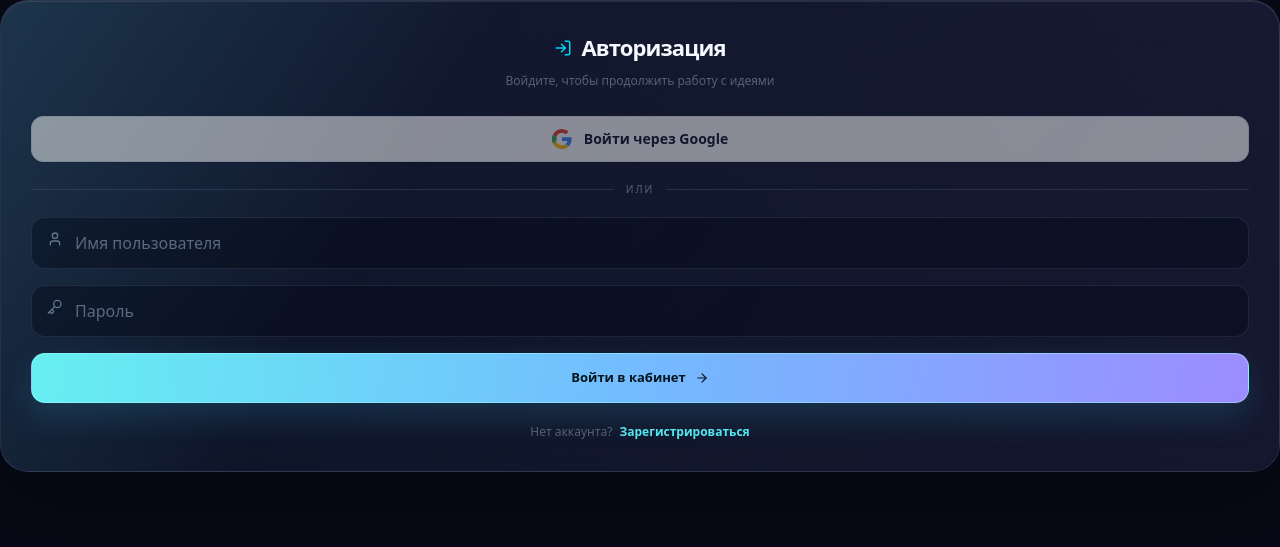
Test: Компонент AuthForm › Показывает ошибку, если бэкенд вернул статус 400
This screenshot has width=1280, height=547.
In the field with placeholder "Имя пользователя": (640, 243) [31,217,1249,269], type "wrong_user"
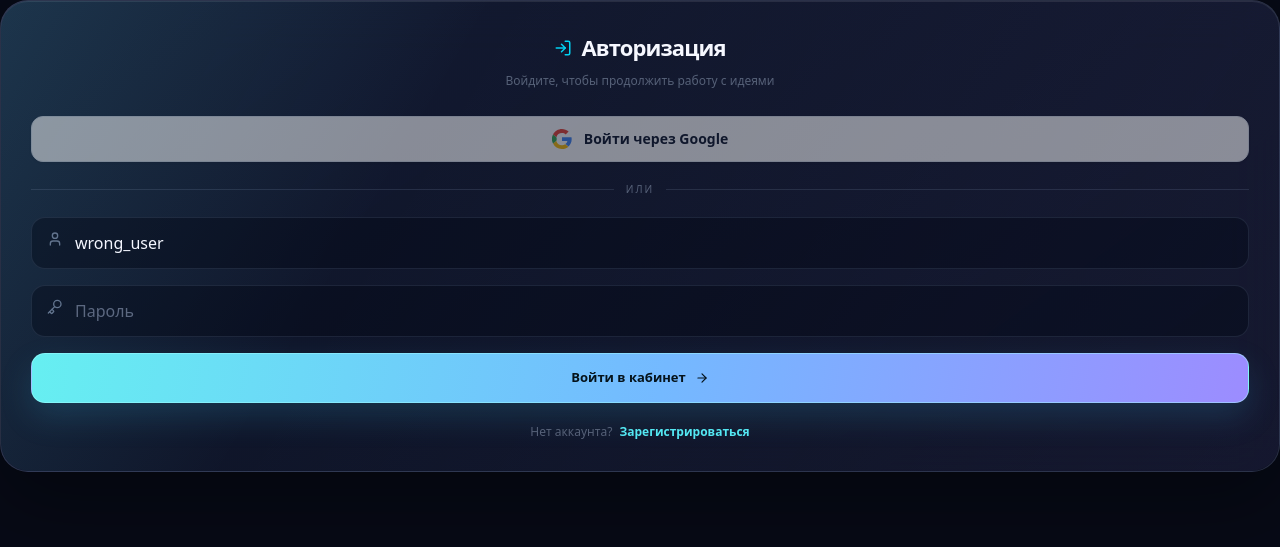
In the password field with placeholder "Пароль": (640, 311) [31,285,1249,337], type "wrong_password"
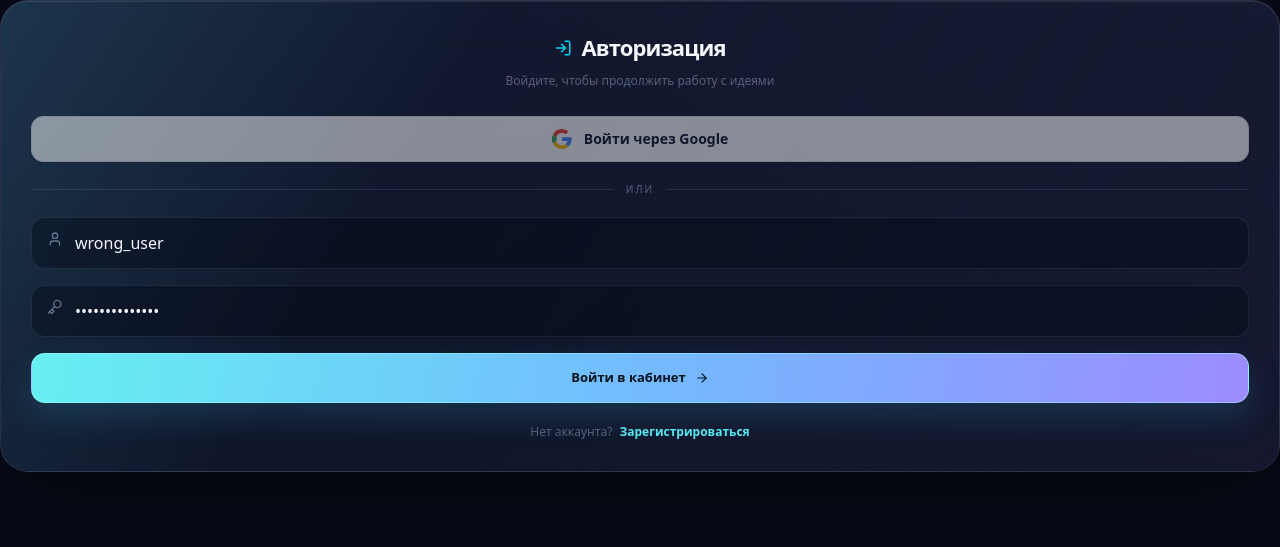
Click the button "Войти в кабинет": (640, 378) [31,353,1249,402]
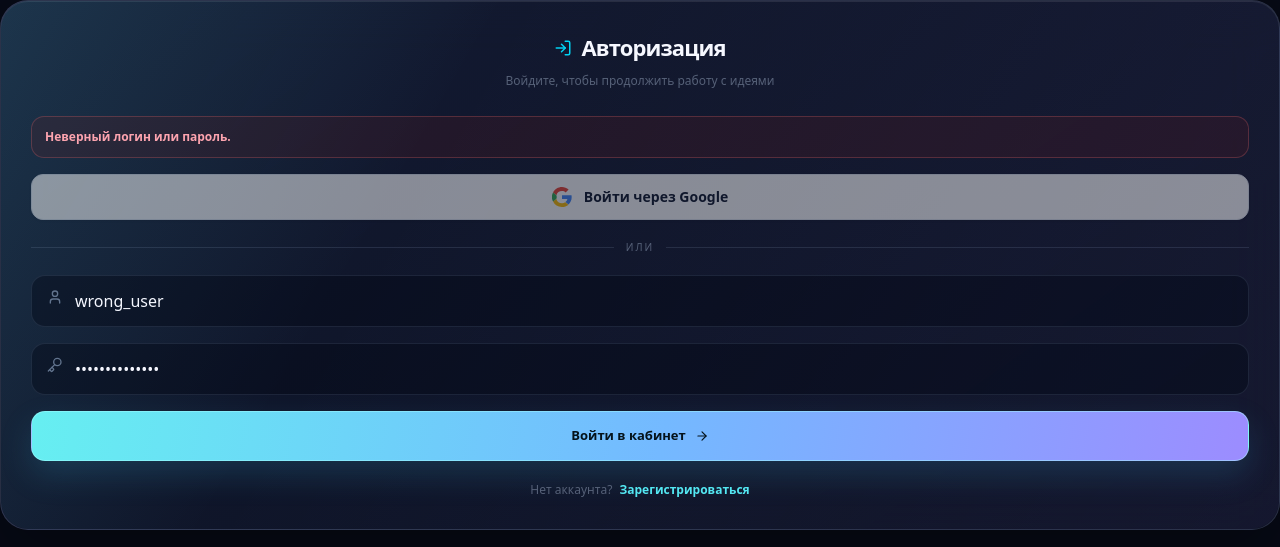
expect the text "Неверный логин или пароль." is shown: met, box [31,116,1249,158]
